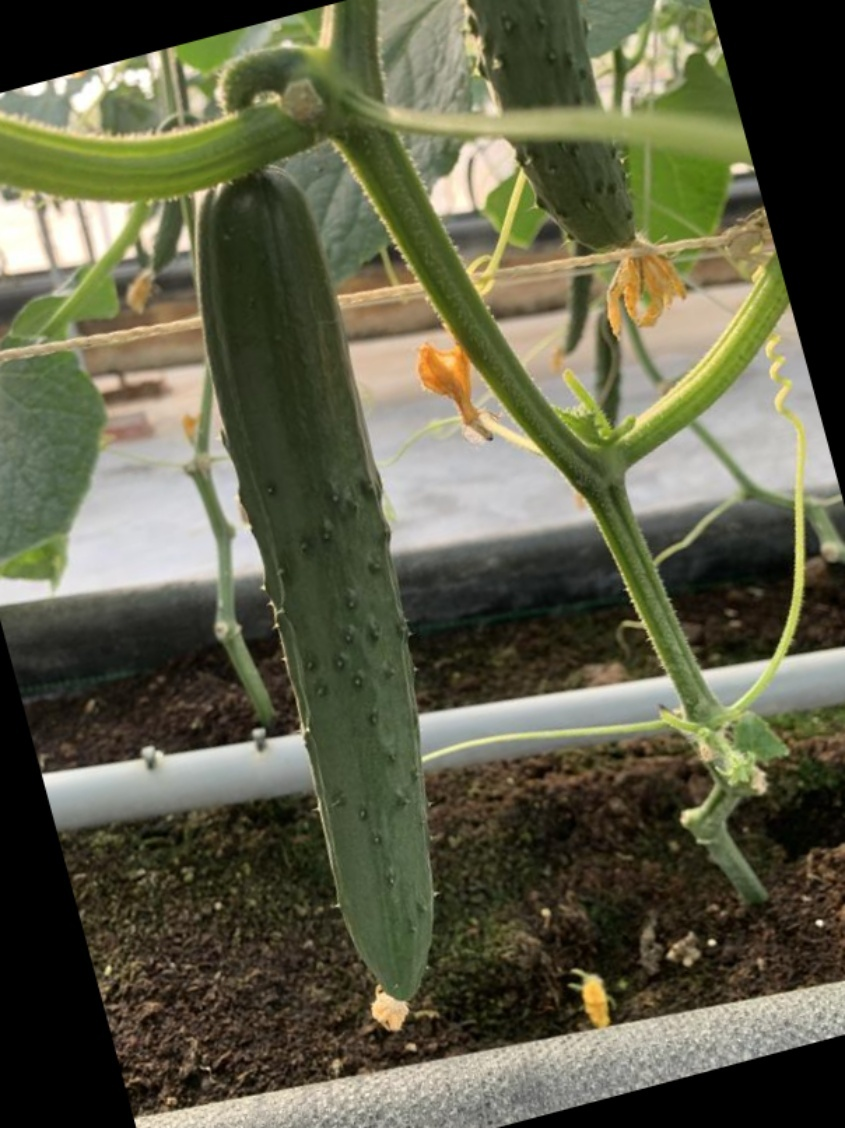mature: (146, 146, 486, 1018)
